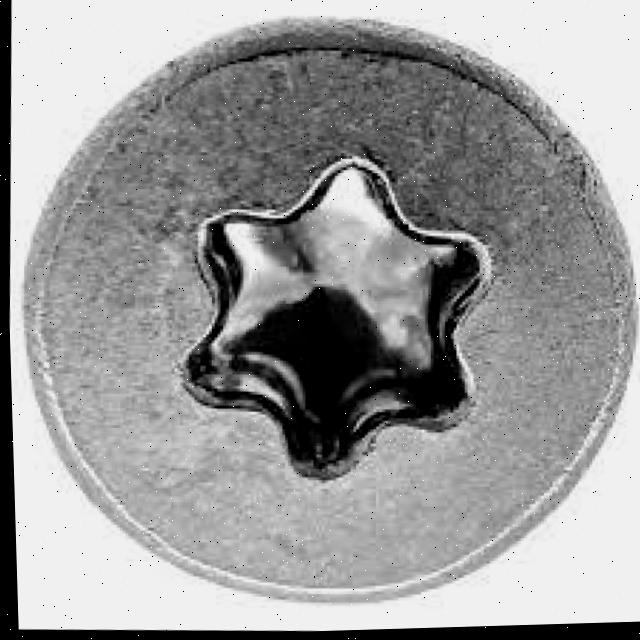Torx: (10, 7, 640, 620)
